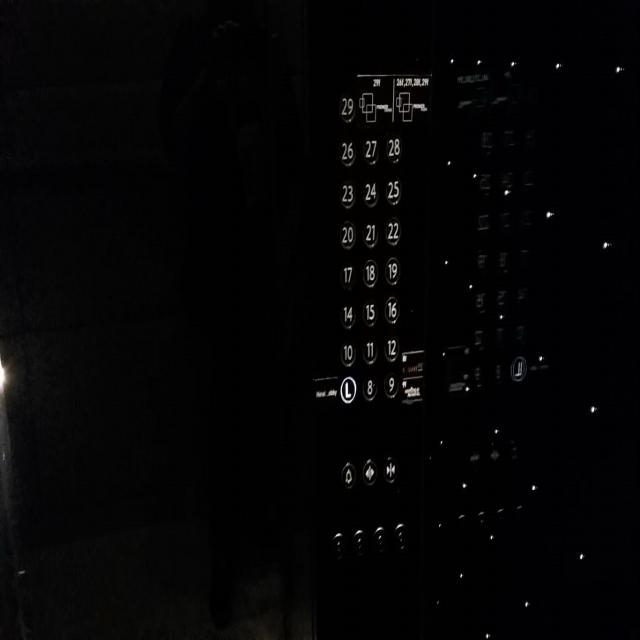10: (338, 336, 357, 370)
11: (361, 332, 379, 366)
12: (382, 330, 401, 364)
14: (339, 298, 357, 332)
15: (361, 294, 379, 328)
16: (382, 292, 401, 326)
17: (338, 258, 356, 292)
18: (360, 254, 379, 288)
19: (382, 251, 401, 285)
20: (337, 217, 356, 251)
21: (361, 215, 379, 249)
22: (383, 212, 402, 246)
23: (338, 173, 358, 210)
24: (362, 174, 382, 211)
25: (384, 171, 404, 207)
26: (338, 132, 358, 168)
27: (362, 129, 382, 166)
28: (384, 128, 404, 164)
29: (338, 89, 358, 126)
8: (360, 369, 379, 403)
9: (381, 366, 400, 400)
L: (338, 372, 357, 406)
alarm: (340, 458, 357, 490)
close: (382, 452, 398, 484)
open: (362, 454, 378, 487)
